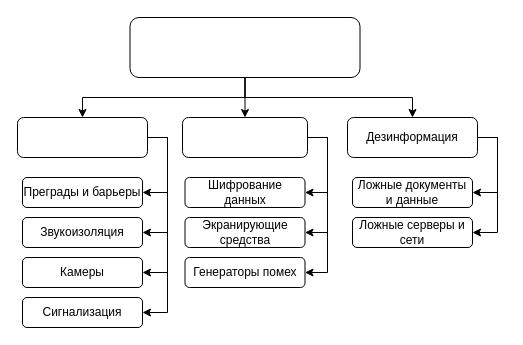
Some shapes in this 523 by 345 pixel diagram are drawn without their labels. Each missing label, with the centre of its shape:
"Инженерно-технические меры" goes at (82,137).
"Маскировка информации" goes at (245,137).
"Методы защиты информации от утечки по техническим каналам" goes at (244,47).
